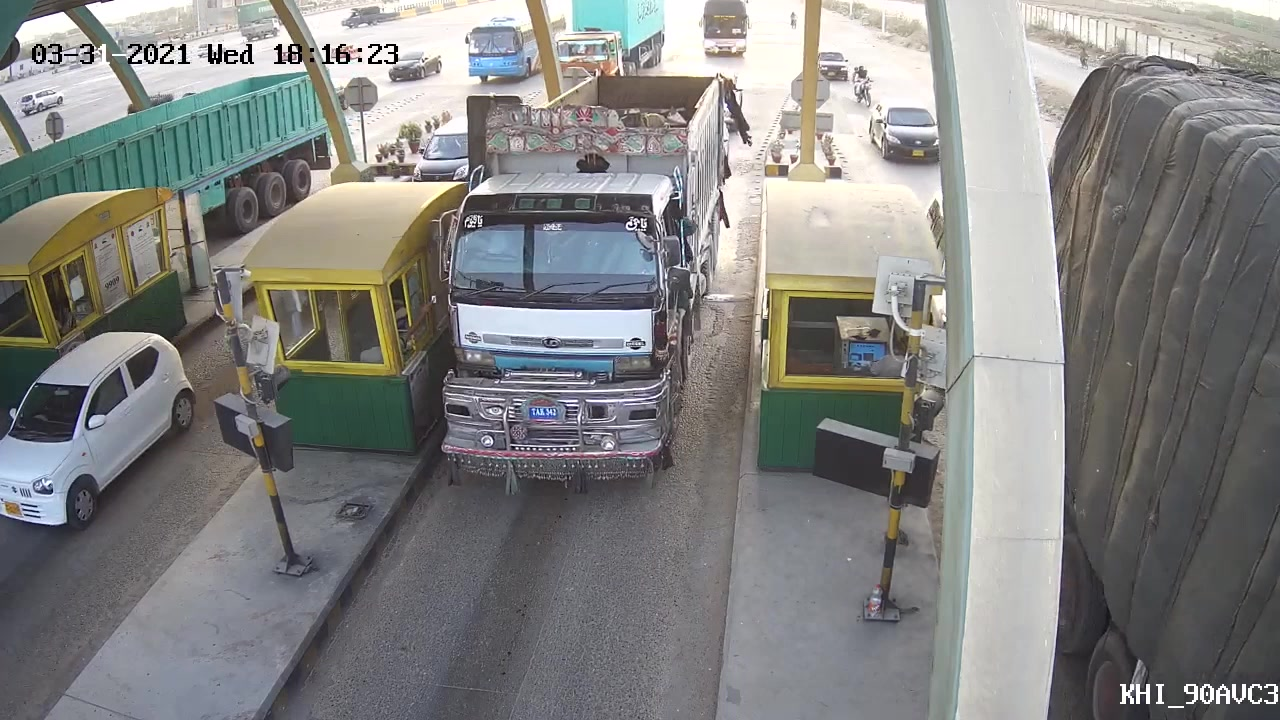F5: (421, 61, 752, 503)
